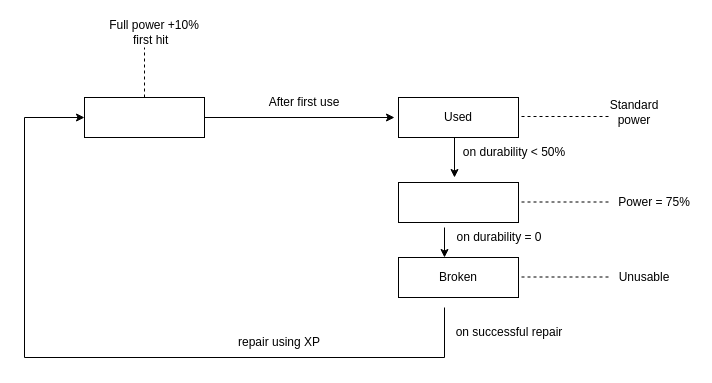
Image size: 712x383. Some labels were removed from this diagram. The shapes that lost their labels are listed below. From the top down, each one's centre as x and y in pixels, then its label:
At (x=144, y=117): "New".
At (x=458, y=202): "Damaged".
